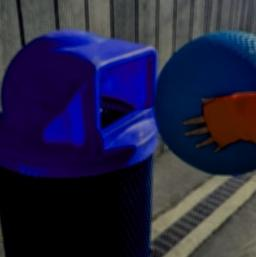algae: (158, 30, 256, 172)
